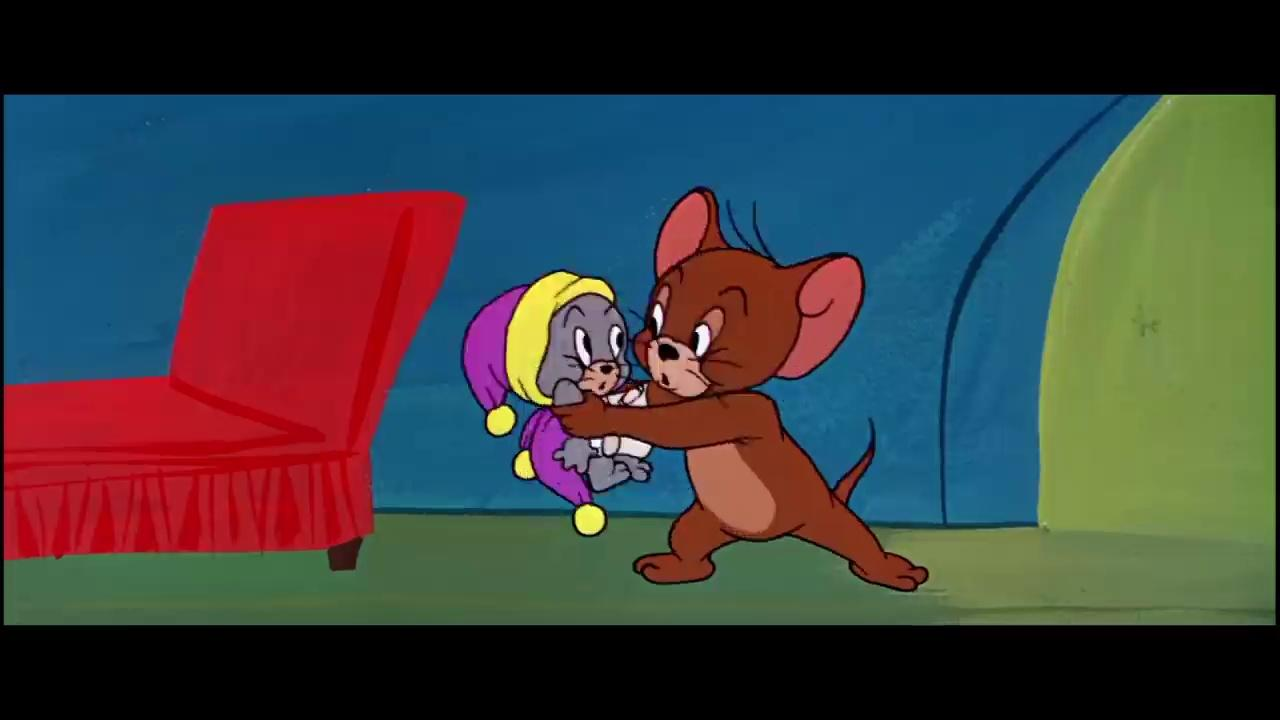Jerry: (551, 183, 931, 592)
